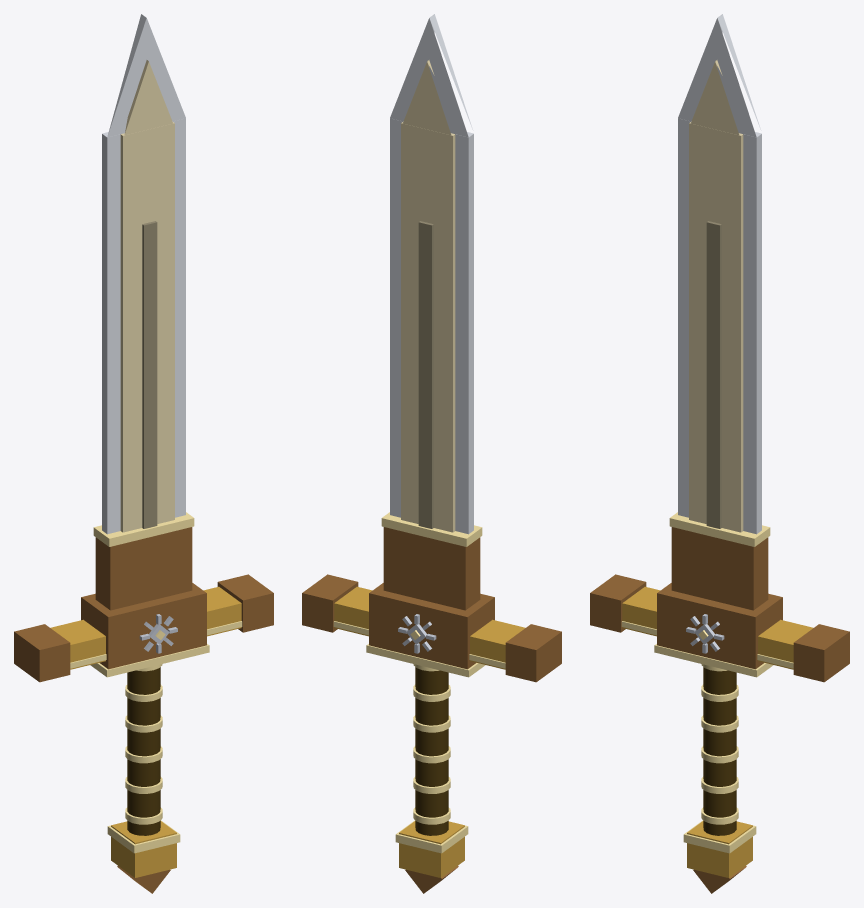
3 renders of one model, left to right at view 1: azimuth 30°, elevation 25°; view 2: azimuth 150°, elevation 25°; view 3: azimuth 330°, elevation 25°, orthographic.
Parts seen in each view (by area): view 1: champion-claymore; view 2: champion-claymore; view 3: champion-claymore.
Boxes of the visible parts, <box> form: champion-claymore: <box>14,14,273,893</box>; champion-claymore: <box>302,14,561,893</box>; champion-claymore: <box>590,14,849,893</box>.
Size of the model in its own units: 0.4049 by 1.44 by 0.1025.
